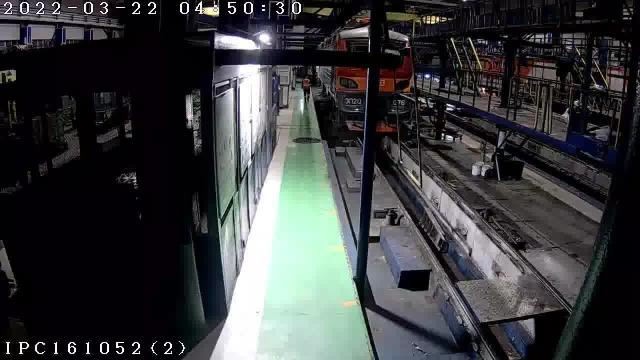person: (303, 77, 310, 100)
train: (374, 31, 413, 131)
